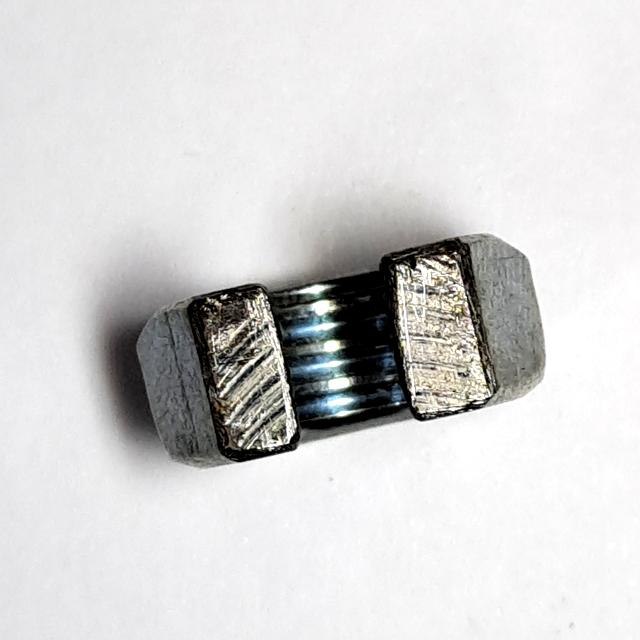Side-Fracture: (126, 201, 556, 496)
